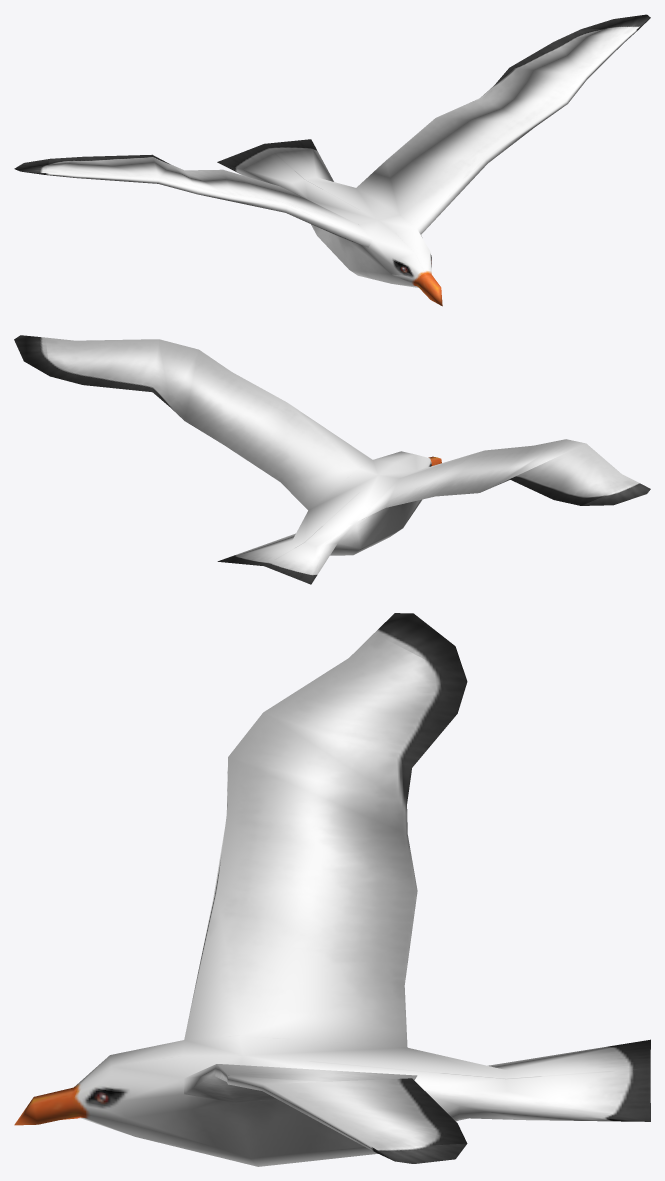
Rendered from gaviota.obj.
The picture shows the model from 3 angles, top to bottom: view 1: azimuth 30°, elevation 25°; view 2: azimuth 150°, elevation 25°; view 3: azimuth 270°, elevation 25°; orthographic projection. The views are drawn at different scales.
Parts seen in each view (by area): view 1: Object04; view 2: Object04; view 3: Object04.
Part boxes in pixels (bbox=[...]): Object04: bbox=[14, 14, 650, 306]; Object04: bbox=[14, 335, 650, 584]; Object04: bbox=[14, 613, 650, 1166].
Bounding box in the file's own units: 37.31 × 8.57 × 18.24.
Materials: 1 (1 with a texture image).
